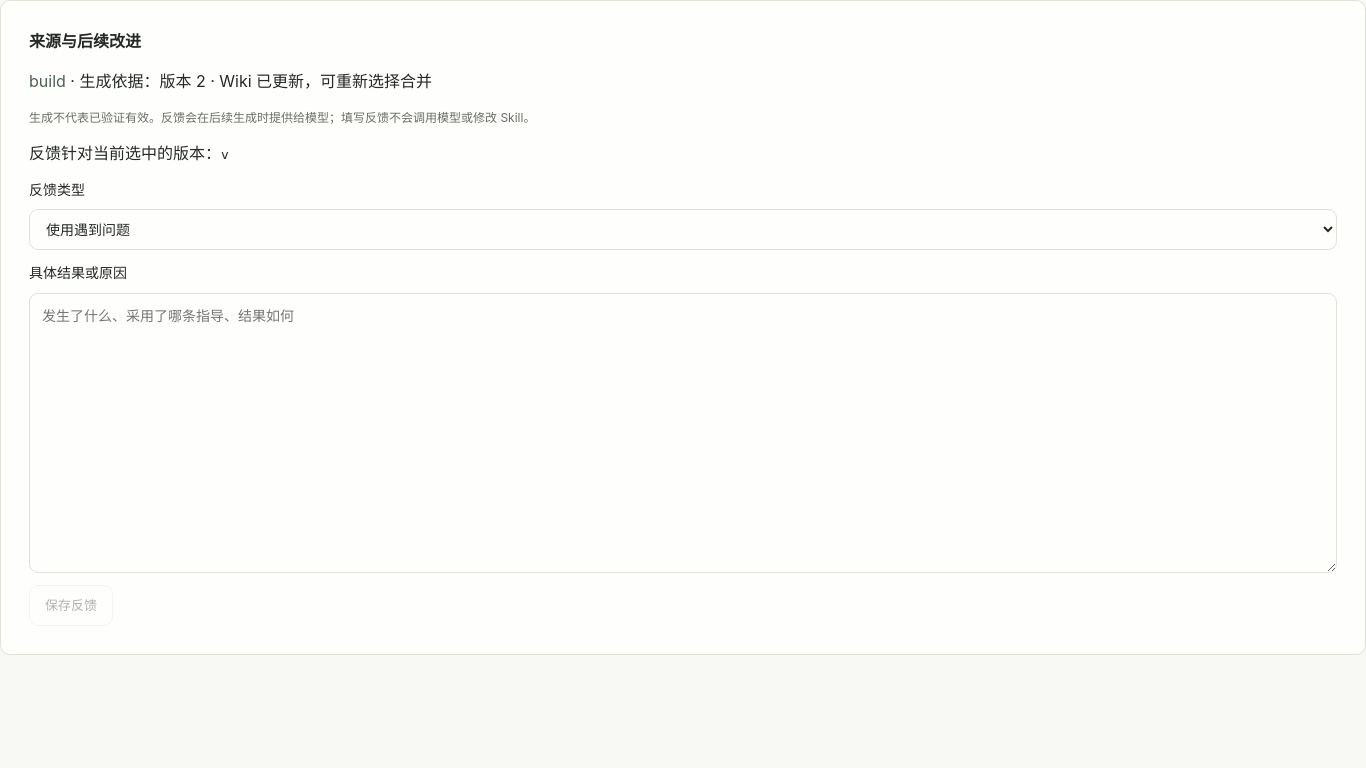
Test: saves negative feedback for the chosen version without generating or rolling back
The image size is (1366, 768).
Expected: the text "build · 生成依据：版本 2 · Wiki 已更新，可重新选择合并" is shown, [29,71,432,91]
Step 1. Type "Command fails on the target environment" into the text box labelled "具体结果或原因" → (683, 433), box [29,293,1337,573]
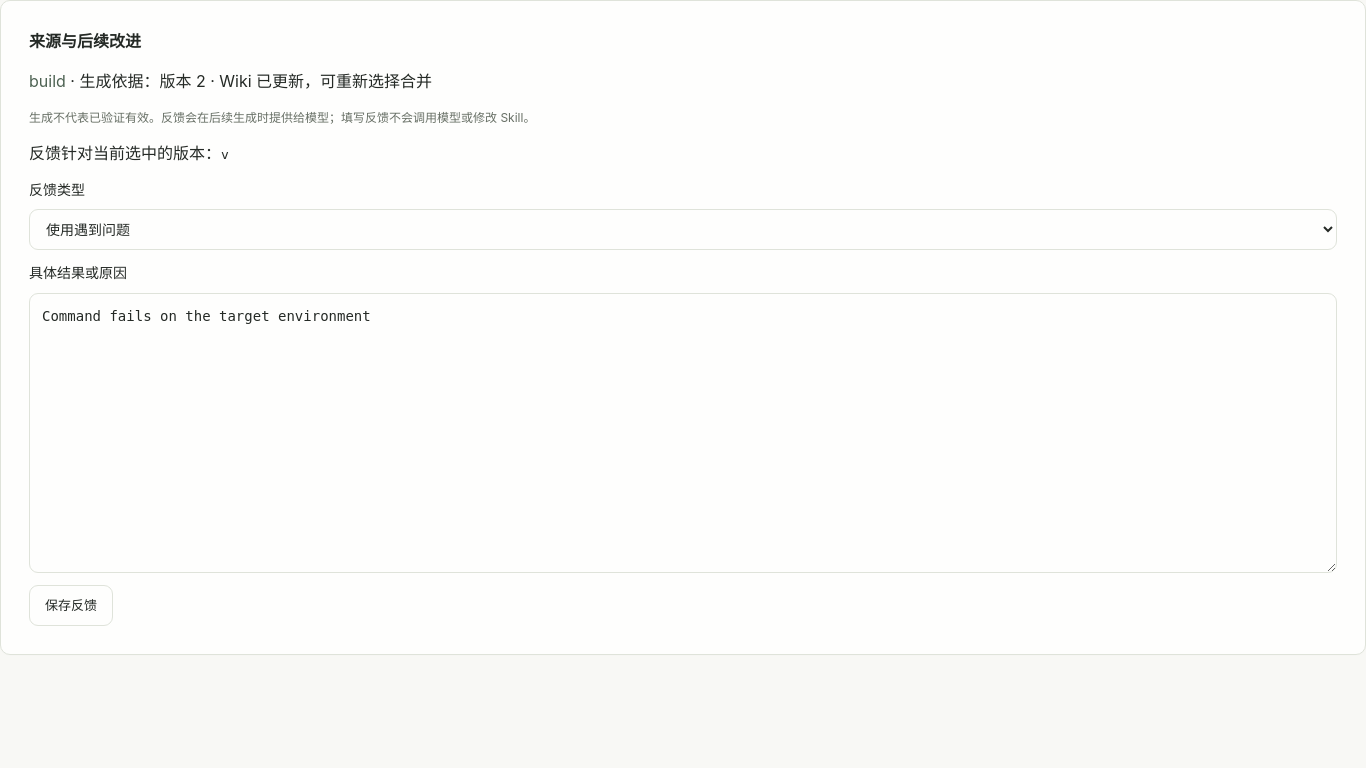
Step 2. Click the button "保存反馈" → (71, 605), box [29,585,113,626]
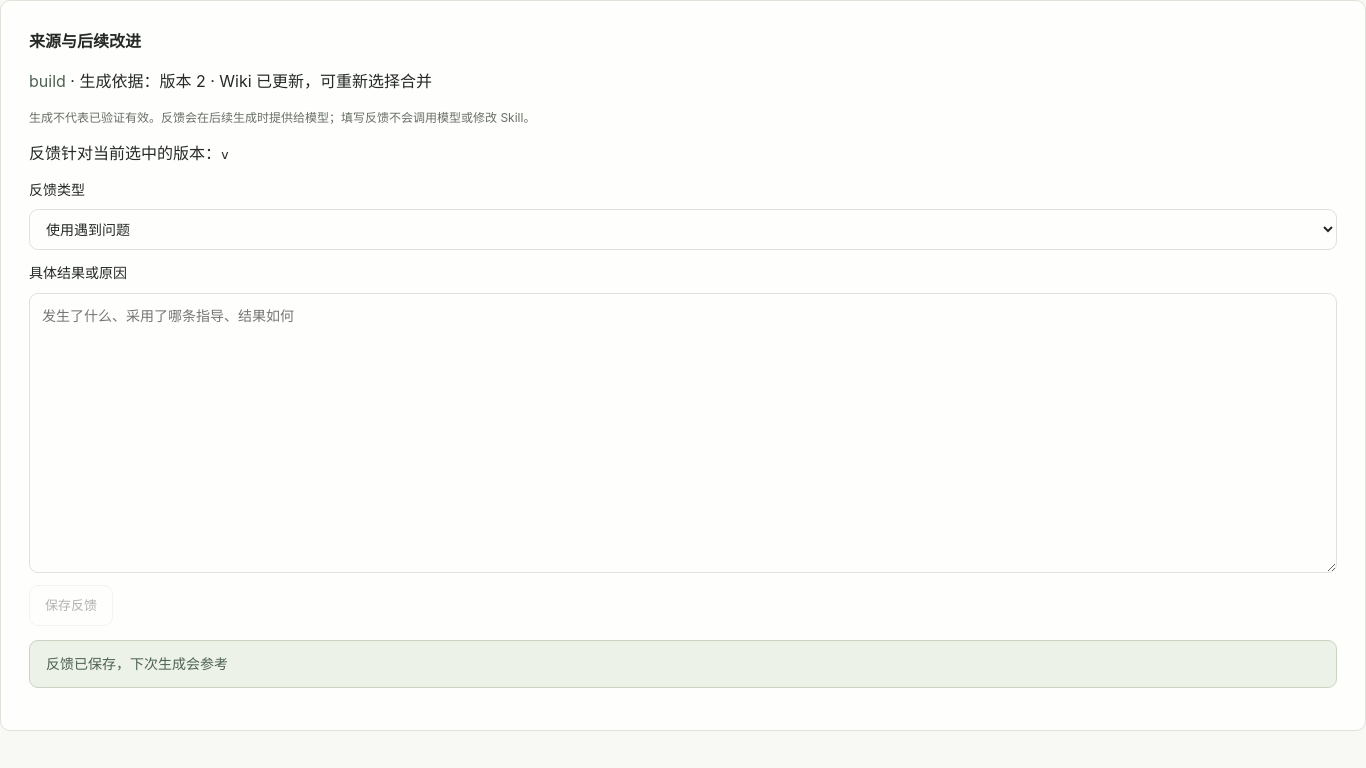
Expected: the text "反馈已保存，下次生成会参考" is shown, [29,640,1337,688]
